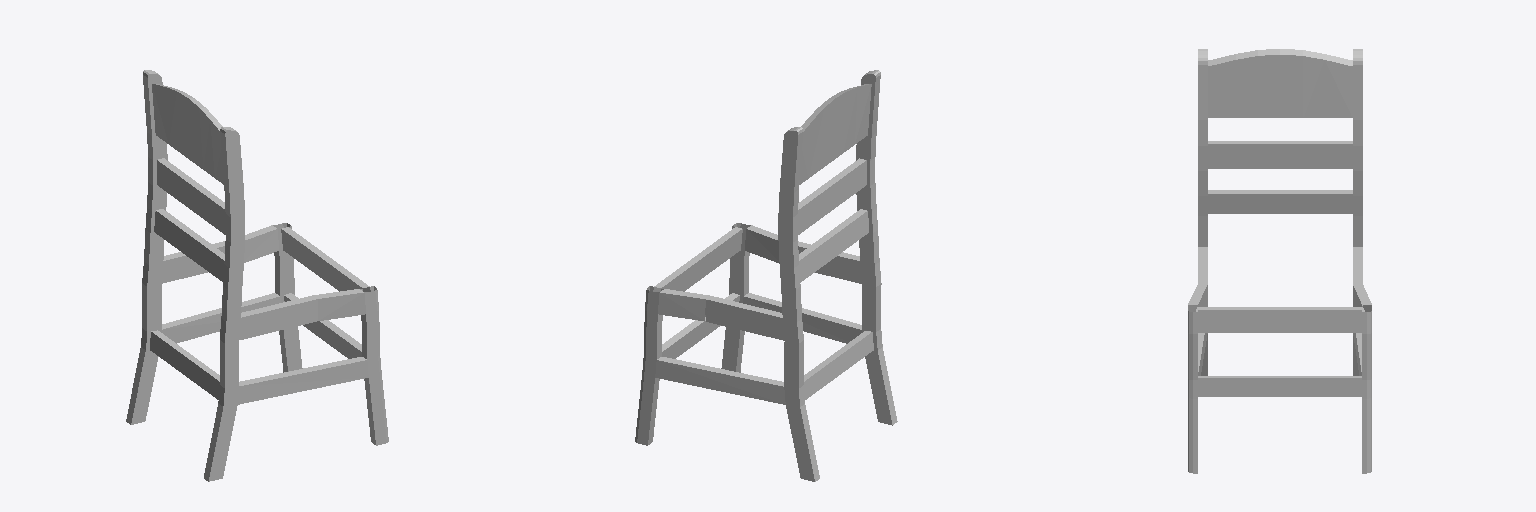
The model's file is Silla.obj.
3 views of the same model, side by side, from view 1: azimuth 30°, elevation 25°; view 2: azimuth 150°, elevation 25°; view 3: azimuth 270°, elevation 25° (orthographic).
Parts seen in each view (by area): view 1: Box009; view 2: Box009; view 3: Box009.
Part boxes in pixels (x1,y1,x2,y2): Box009: (126, 70, 388, 481); Box009: (635, 70, 897, 481); Box009: (1188, 49, 1371, 473).
Bounding box in the file's own units: 3158 × 5938 × 2842.